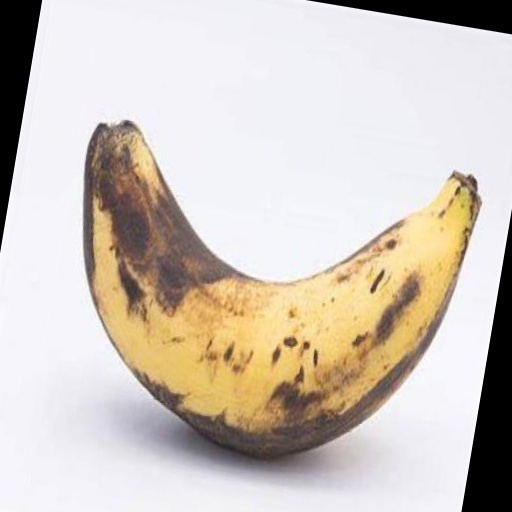fruit: (83, 121, 481, 456)
